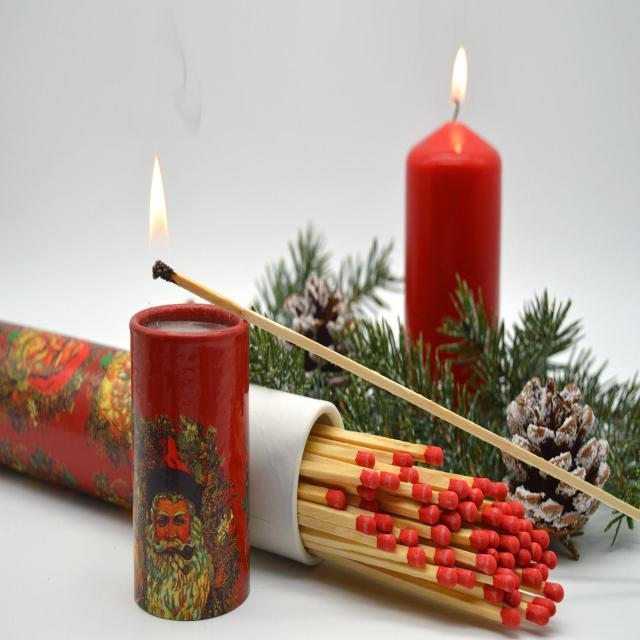Fire_Save: (404, 45, 503, 414), (148, 152, 169, 245)
